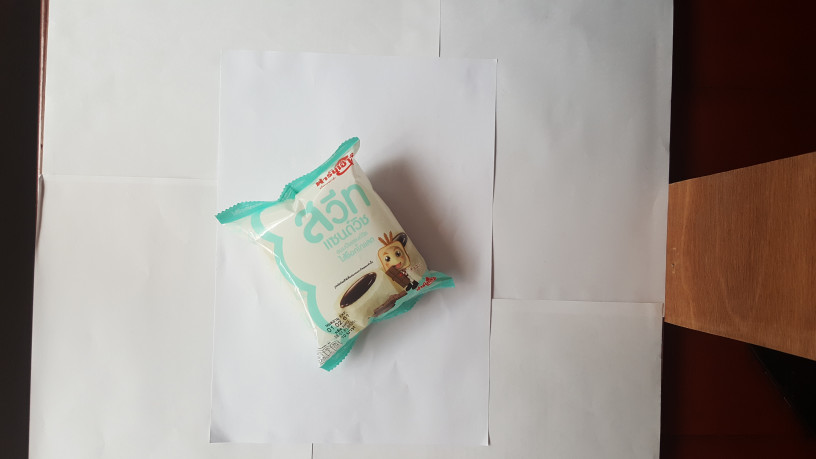farmhouse-sweetsandwich-chocolate: (215, 134, 458, 375)
